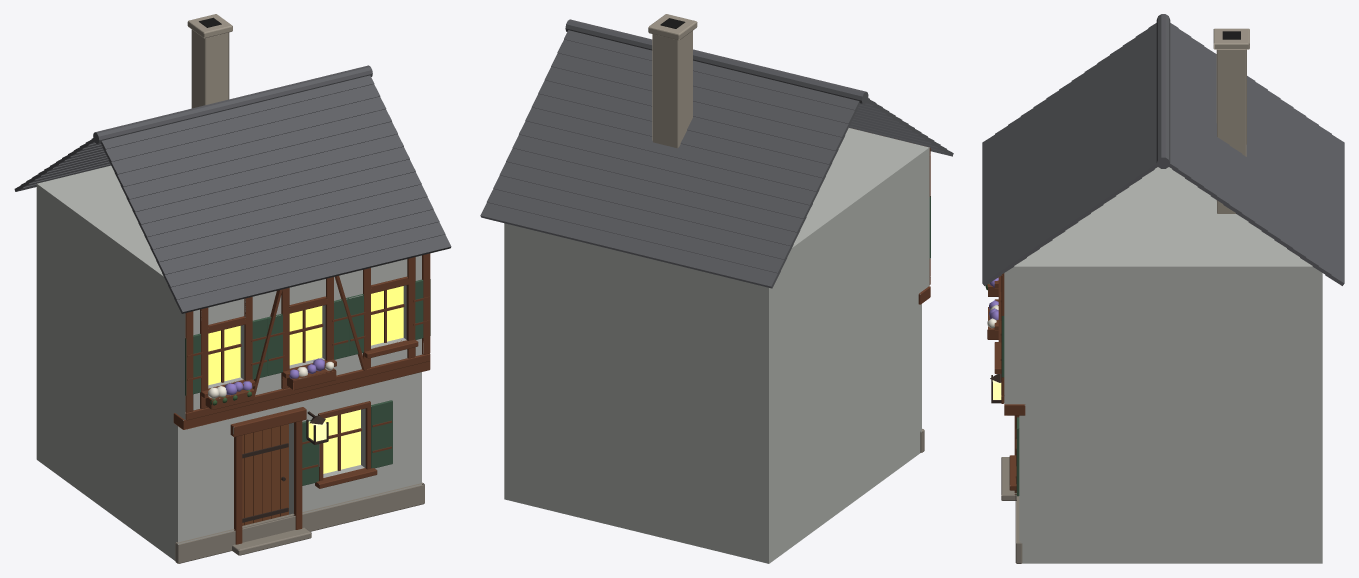
File: casa_5x5_ligero.glb
3 renders of one model, left to right at view 1: azimuth 30°, elevation 25°; view 2: azimuth 150°, elevation 25°; view 3: azimuth 270°, elevation 25°, orthographic. The views are drawn at different scales.
Visible parts, largest first — view 1: casa_5x5_pa_dentro, casa_5x5_pb_dentro, casa_5x5_pb, casa_5x5_zocalo, casa_5x5_pb.005, casa_5x5_tejado_s_0, casa_5x5_tejado_s_8, casa_5x5_tejado_s_5, casa_5x5_tejado_s_4, casa_5x5_tejado_s_7, casa_5x5_tejado_s_2, casa_5x5_tejado_s_10 (+52 smaller); view 2: casa_5x5_pb_dentro, casa_5x5_pa_dentro, casa_5x5_tejado_n_0, casa_5x5_tejado_n_3, casa_5x5_tejado_n_6, casa_5x5_tejado_n_2, casa_5x5_tejado_n_4, casa_5x5_tejado_n_5, casa_5x5_tejado_n_1, casa_5x5_tejado_n_7, casa_5x5_chimenea0, casa_5x5_tejado_n_8 (+9 smaller); view 3: casa_5x5_pa_dentro, casa_5x5_pb_dentro, casa_5x5_chimenea0, casa_5x5_pb.005, casa_5x5_tejado_cumbrera, casa_5x5_pa.009, casa_5x5_tejado_n_12, casa_5x5_tejado_s_3, casa_5x5_tejado_s_4, casa_5x5_tejado_n_3, casa_5x5_tejado_n_4, casa_5x5_tejado_n_11 (+24 smaller).
Part boxes in pixels (bbox=[...]): casa_5x5_pa_dentro: bbox=[36, 165, 177, 414]; casa_5x5_pb_dentro: bbox=[36, 312, 169, 556]; casa_5x5_pb: bbox=[169, 409, 240, 560]; casa_5x5_zocalo: bbox=[175, 482, 424, 563]; casa_5x5_pb.005: bbox=[361, 372, 421, 498]; casa_5x5_tejado_s_0: bbox=[174, 234, 451, 313]; casa_5x5_tejado_s_8: bbox=[126, 134, 403, 212]; casa_5x5_tejado_s_5: bbox=[144, 172, 421, 250]; casa_5x5_tejado_s_4: bbox=[150, 184, 427, 263]; casa_5x5_tejado_s_7: bbox=[132, 146, 409, 225]; casa_5x5_tejado_s_2: bbox=[162, 209, 439, 288]; casa_5x5_tejado_s_10: bbox=[115, 109, 391, 188]; casa_5x5_pb_dentro: bbox=[504, 298, 912, 563]; casa_5x5_pa_dentro: bbox=[504, 134, 921, 403]; casa_5x5_tejado_n_0: bbox=[480, 202, 780, 288]; casa_5x5_tejado_n_3: bbox=[499, 161, 800, 247]; casa_5x5_tejado_n_6: bbox=[519, 121, 819, 205]; casa_5x5_tejado_n_2: bbox=[493, 175, 793, 260]; casa_5x5_tejado_n_4: bbox=[506, 148, 806, 232]; casa_5x5_tejado_n_5: bbox=[512, 134, 812, 218]; casa_5x5_tejado_n_1: bbox=[487, 189, 787, 273]; casa_5x5_tejado_n_7: bbox=[525, 107, 825, 191]; casa_5x5_chimenea0: bbox=[652, 31, 692, 148]; casa_5x5_tejado_n_8: bbox=[532, 94, 832, 179]; casa_5x5_pa_dentro: bbox=[1019, 167, 1322, 404]; casa_5x5_pb_dentro: bbox=[1037, 404, 1322, 563]; casa_5x5_chimenea0: bbox=[1216, 43, 1246, 213]; casa_5x5_pb.005: bbox=[1019, 404, 1037, 563]; casa_5x5_tejado_cumbrera: bbox=[1156, 14, 1170, 168]; casa_5x5_pa.009: bbox=[1004, 263, 1019, 404]; casa_5x5_tejado_n_12: bbox=[1172, 29, 1191, 179]; casa_5x5_tejado_s_3: bbox=[1020, 108, 1039, 259]; casa_5x5_tejado_s_4: bbox=[1033, 99, 1052, 249]; casa_5x5_tejado_n_3: bbox=[1287, 108, 1306, 258]; casa_5x5_tejado_n_4: bbox=[1274, 99, 1293, 250]; casa_5x5_tejado_n_11: bbox=[1185, 37, 1204, 188].
Size of the model in its own units: 5.6 by 8.53 by 5.97.
